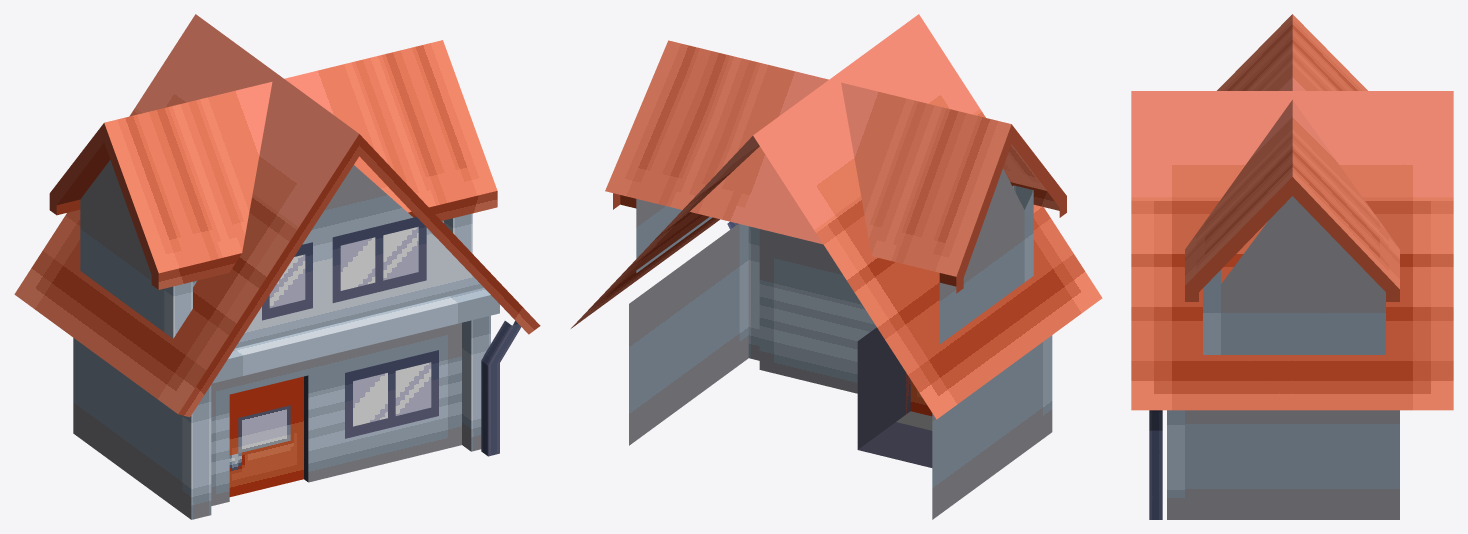
The model's file is house_player.glb.
The picture shows the model from 3 angles, left to right: view 1: azimuth 30°, elevation 25°; view 2: azimuth 150°, elevation 25°; view 3: azimuth 270°, elevation 25°; orthographic projection. The views are drawn at different scales.
Visible parts, largest first — view 1: house_player; view 2: house_player; view 3: house_player.
Part boxes in pixels (<box>): house_player: <box>14,14,540,519</box>; house_player: <box>571,14,1102,519</box>; house_player: <box>1131,14,1453,519</box>.
Bounding box in the file's own units: 5.75 × 5.5 × 4.5.
Materials: 6 (6 with a texture image).
